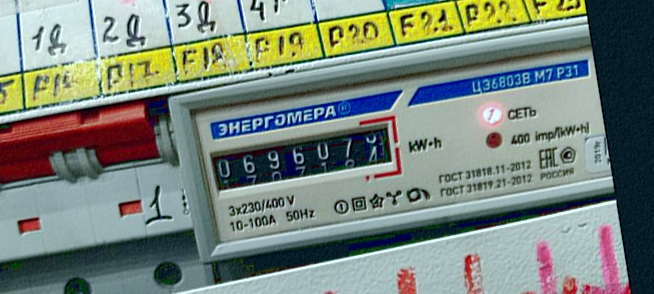0: (315, 137, 333, 161), (217, 156, 234, 179)
4: (367, 143, 383, 166)
6: (241, 151, 258, 174), (291, 143, 308, 165)
7: (340, 135, 358, 159)
9: (266, 147, 282, 170)
screen: (197, 112, 410, 202)
